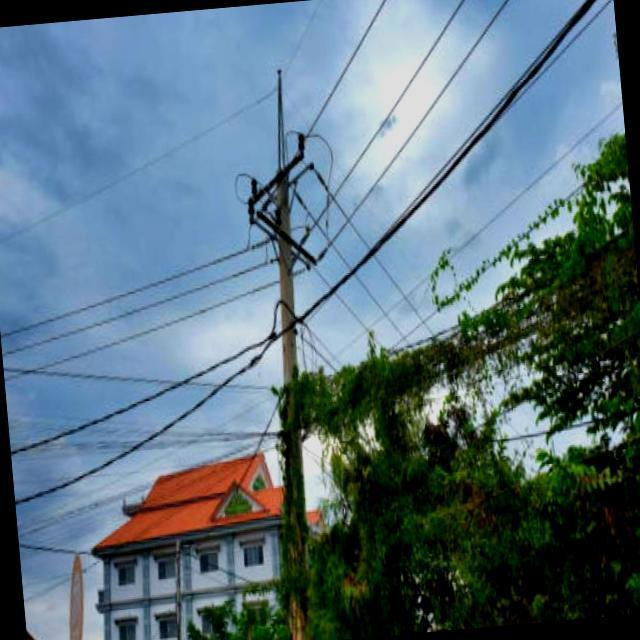critical vegetation: (268, 367, 329, 617)
